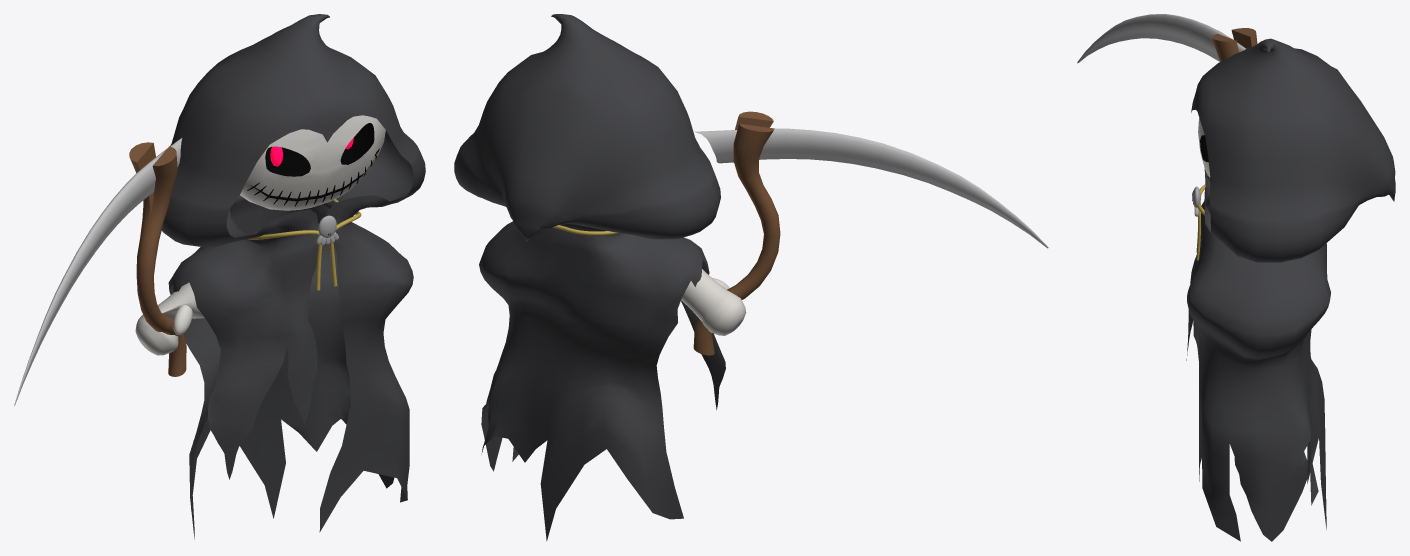
The model's file is Grim.fbx.
3 views of the same model, side by side, from view 1: azimuth 30°, elevation 25°; view 2: azimuth 150°, elevation 25°; view 3: azimuth 270°, elevation 25° (orthographic). The views are drawn at different scales.
Visible parts, largest first — view 1: polySurface4, polySurface2, pCylinder1, pCylinder2, polySurface3, pCylinder3, polySurface5; view 2: polySurface4, pCylinder2, pCylinder1, pCylinder3; view 3: polySurface4, pCylinder2, pCylinder1.
Boxes of the visible parts, box(x1,y1,x2,y2) form: polySurface4: box(161, 14, 425, 539); polySurface2: box(240, 115, 385, 210); pCylinder1: box(129, 142, 186, 376); pCylinder2: box(14, 138, 182, 405); polySurface3: box(250, 123, 379, 201); pCylinder3: box(135, 282, 204, 355); polySurface5: box(248, 199, 361, 290); polySurface4: box(454, 14, 725, 541); pCylinder2: box(694, 128, 1048, 248); pCylinder1: box(693, 111, 780, 355); pCylinder3: box(681, 269, 746, 335); polySurface4: box(1186, 38, 1395, 541); pCylinder2: box(1077, 14, 1246, 63); pCylinder1: box(1211, 28, 1257, 61).
Size of the model in its own units: 71.19 by 70.77 by 41.2.
